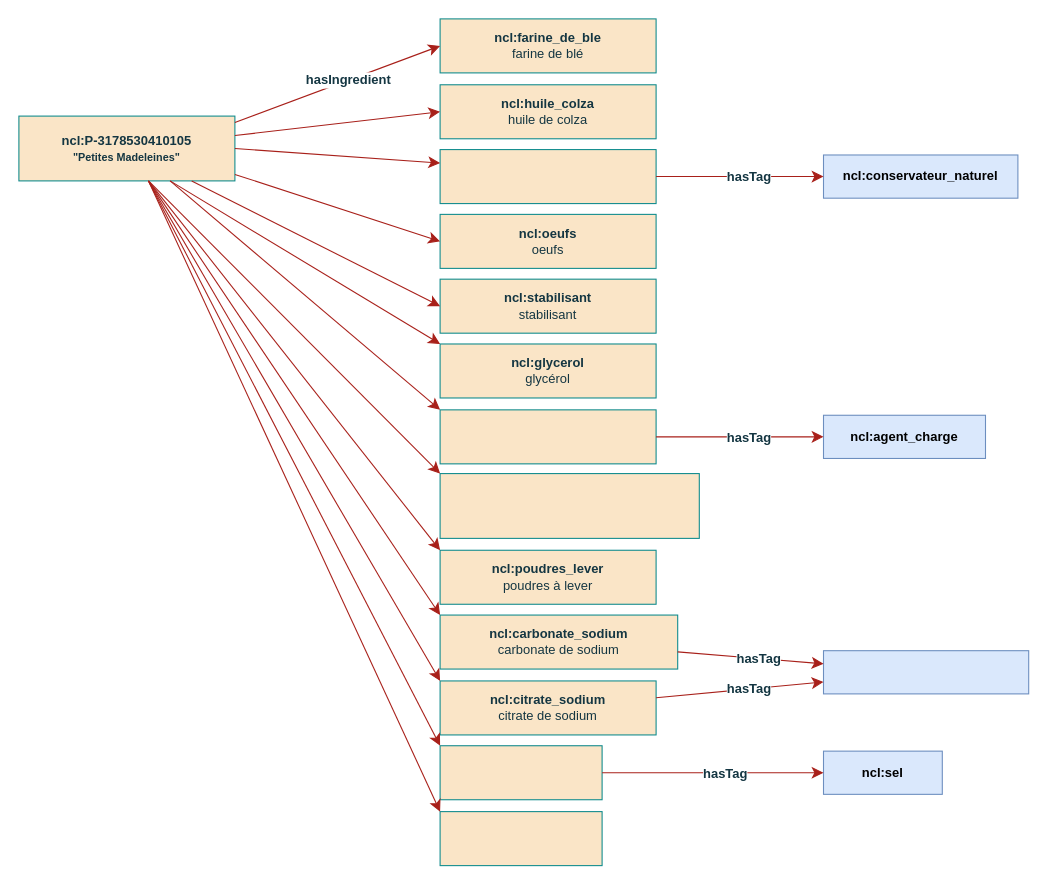
Image size: 1048x885. Some labels were removed from this diagram. Here are the shapes that lost their labels. From the top down, the centre of each, then its label:
At [547,176]: "ncl:sucre sucre".
At [547,436]: "ncl:sirop_glucose sirop de glucose".
At [569,505]: "ncl:lait_frais lait frais demi-écrémé pasteurisé".
At [925,672]: "ncl:regulateur_acidite".
At [520,772]: "ncl:sel sel".
At [520,838]: "ncl:arome arome".
